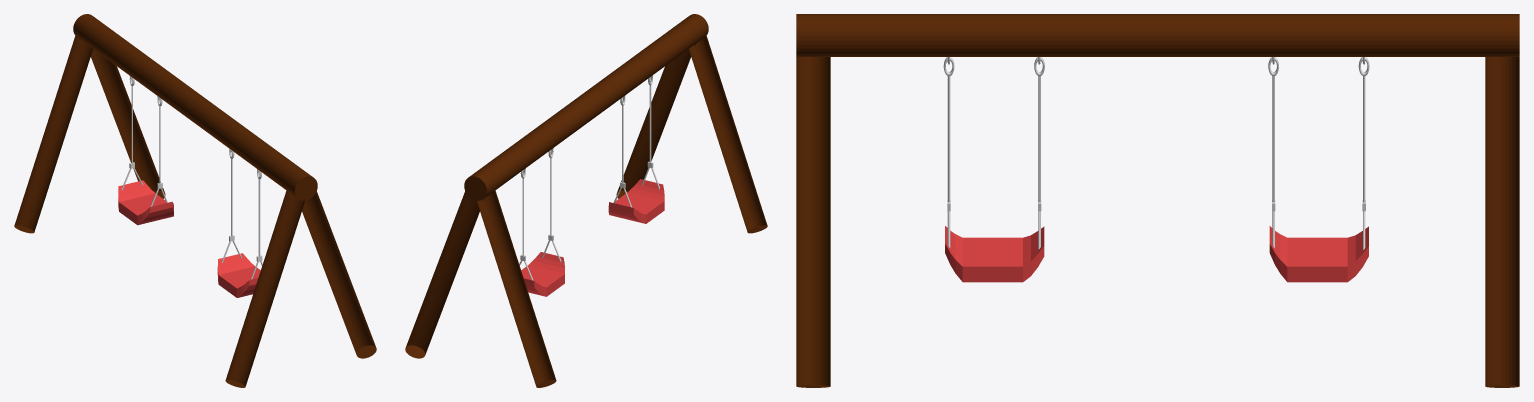
The model's file is schommel.glb.
3 views of the same model, side by side, from view 1: azimuth 30°, elevation 25°; view 2: azimuth 150°, elevation 25°; view 3: azimuth 270°, elevation 25° (orthographic). The views are drawn at different scales.
Visible parts, largest first — view 1: schommelframe, Schommel, Schommel.001, schommeltouw.001, schommeltouw; view 2: schommelframe, Schommel.001, Schommel, schommeltouw.001, schommeltouw; view 3: schommelframe, Schommel.001, Schommel, schommeltouw.001, schommeltouw.
Boxes of the visible parts, left/top/right/bottom form: schommelframe: left=14, top=14, right=376, bottom=387; Schommel: left=118, top=180, right=173, bottom=225; Schommel.001: left=217, top=253, right=260, bottom=297; schommeltouw.001: left=221, top=150, right=262, bottom=279; schommeltouw: left=121, top=77, right=167, bottom=206; schommelframe: left=405, top=14, right=767, bottom=387; Schommel.001: left=608, top=179, right=664, bottom=223; Schommel: left=521, top=252, right=564, bottom=296; schommeltouw.001: left=613, top=77, right=659, bottom=207; schommeltouw: left=519, top=150, right=561, bottom=280; schommelframe: left=796, top=14, right=1519, bottom=387; Schommel.001: left=945, top=226, right=1044, bottom=282; Schommel: left=1269, top=226, right=1368, bottom=282; schommeltouw.001: left=943, top=57, right=1044, bottom=249; schommeltouw: left=1268, top=57, right=1369, bottom=250.
Bounding box in the file's own units: 6.49 × 8.3 × 16.8.
